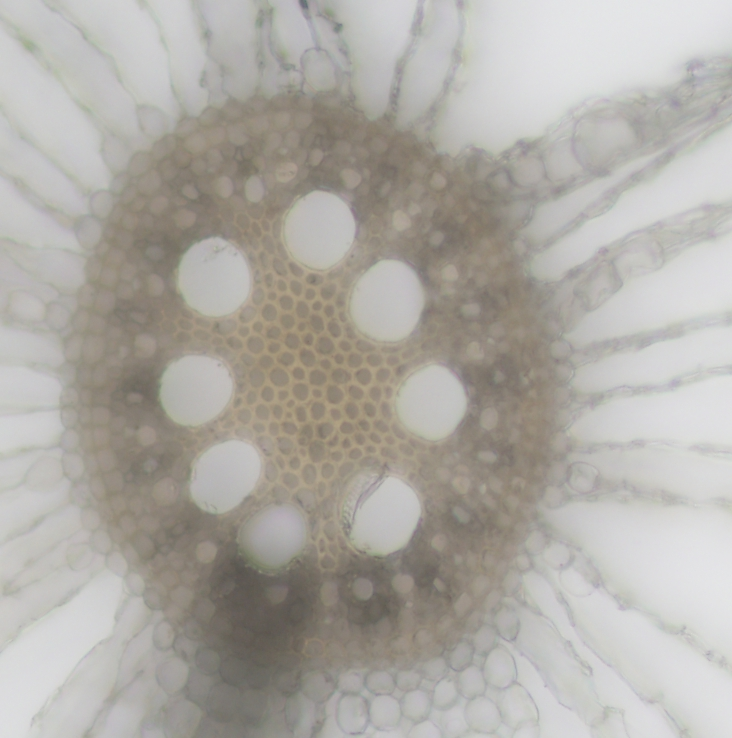lm: (335, 468, 421, 557), (347, 257, 426, 344), (176, 235, 251, 319), (282, 189, 356, 272), (396, 361, 469, 442), (158, 352, 234, 427), (190, 439, 261, 518), (237, 501, 311, 575)
